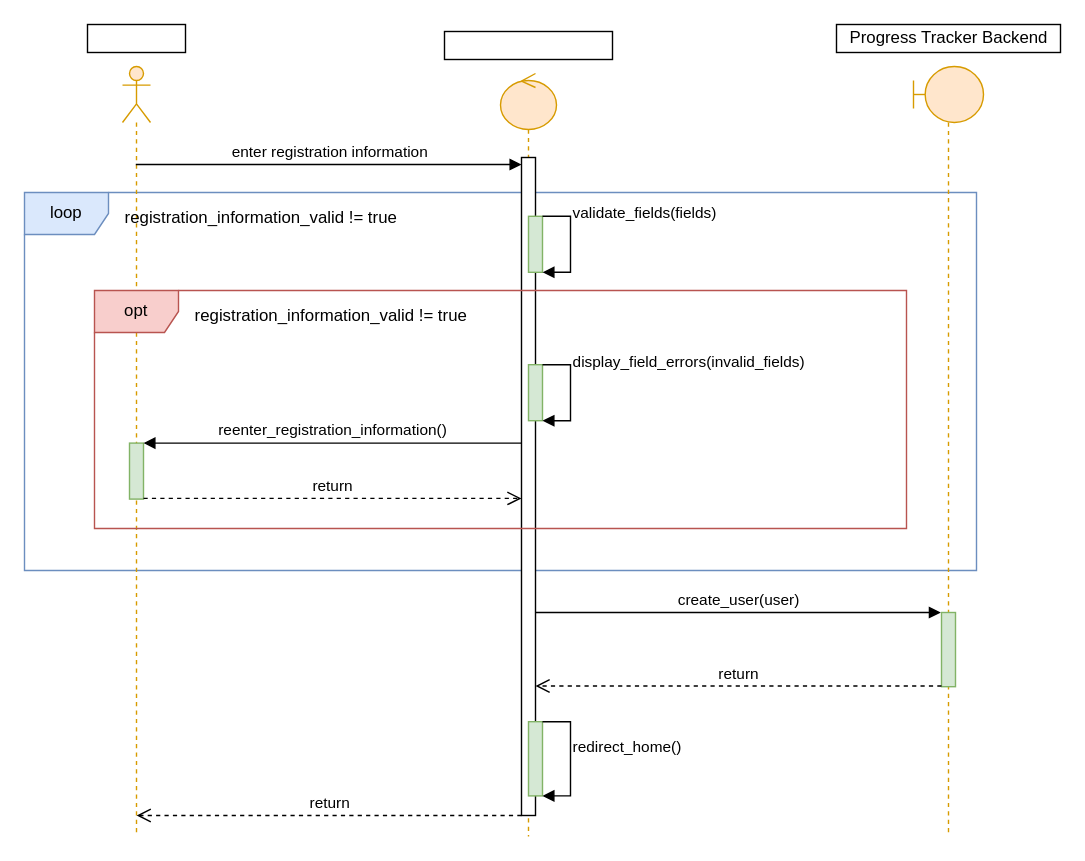
The diagram is 1085 pixels wide and 861 high, and some of its shapes have lost their labels. The centre of each missing label's shape, as x and y in pixels:
"Progress Tracker UI" belongs at [527,44].
"User: User" belongs at [136,37].
